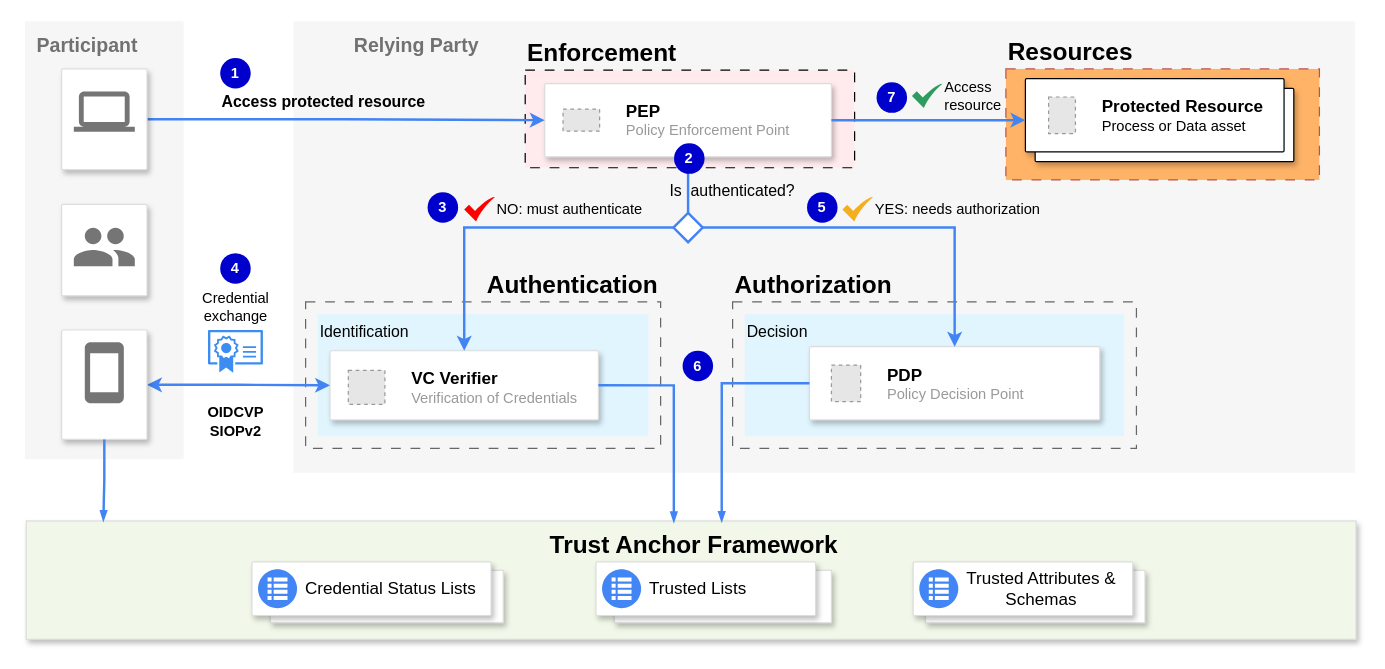
Image size: 1385x669. Some labels were removed from this diagram. Grey dashed boxes stand in for pictures. Each missing label, with the centre of its shape:
"Application" belongs at [105,120].
"Principal" belongs at [105,251].
"Wallet" belongs at [105,386].
